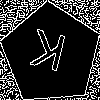K: (26, 29, 69, 81)
